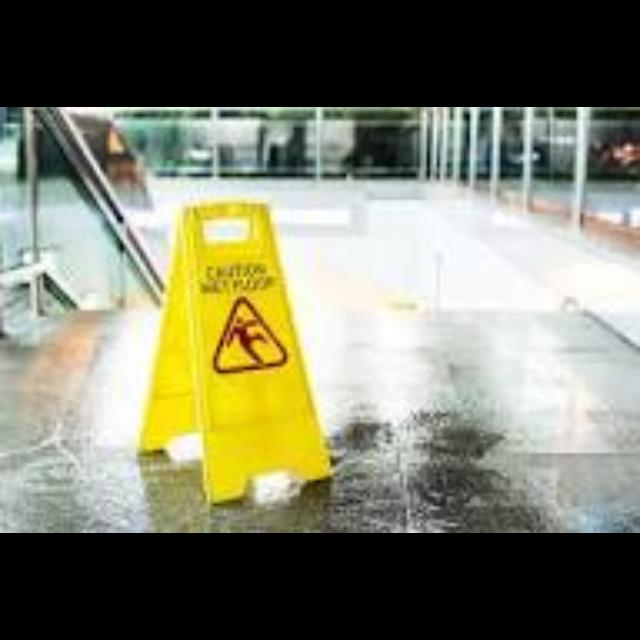tron truot: (137, 200, 327, 500)
